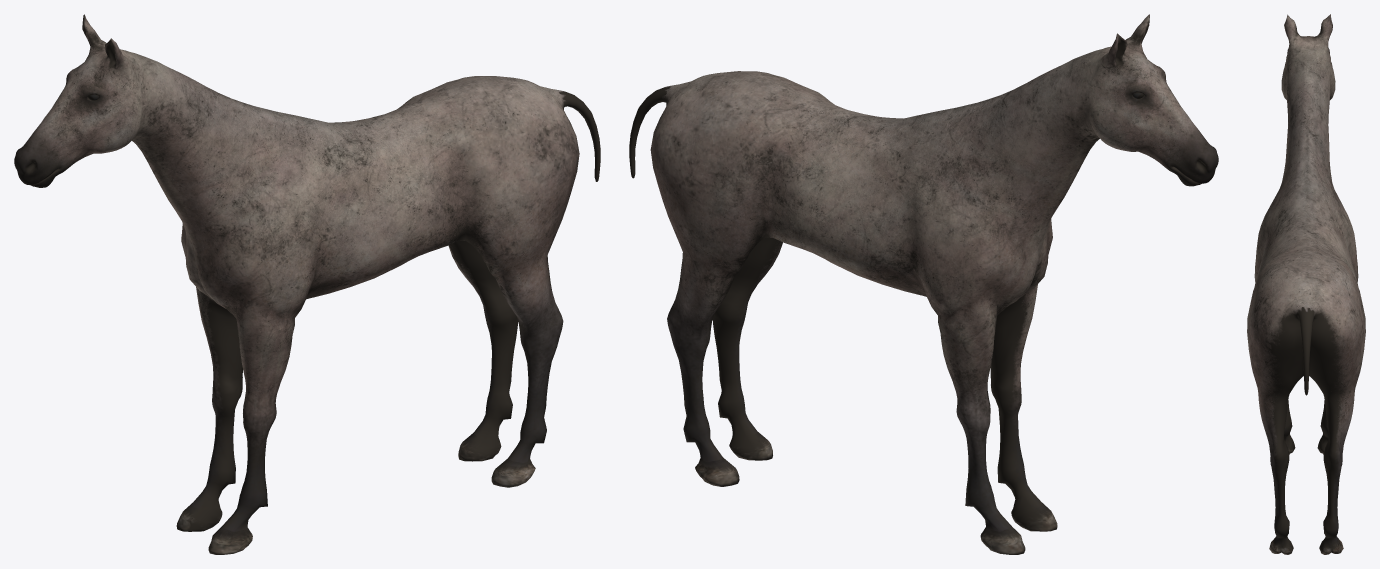
File: SM_Horse.fbx
3 renders of one model, left to right at view 1: azimuth 30°, elevation 25°; view 2: azimuth 150°, elevation 25°; view 3: azimuth 270°, elevation 25°, orthographic. The views are drawn at different scales.
Visible parts, largest first — view 1: SM_Horse_LOD0; view 2: SM_Horse_LOD0; view 3: SM_Horse_LOD0.
Part boxes in pixels (x1,y1,x2,y2): SM_Horse_LOD0: [14, 14, 600, 554]; SM_Horse_LOD0: [629, 14, 1218, 554]; SM_Horse_LOD0: [1247, 14, 1365, 554].
Size of the model in its own units: 264 by 63.65 by 234.
1 material, 1 textured.
